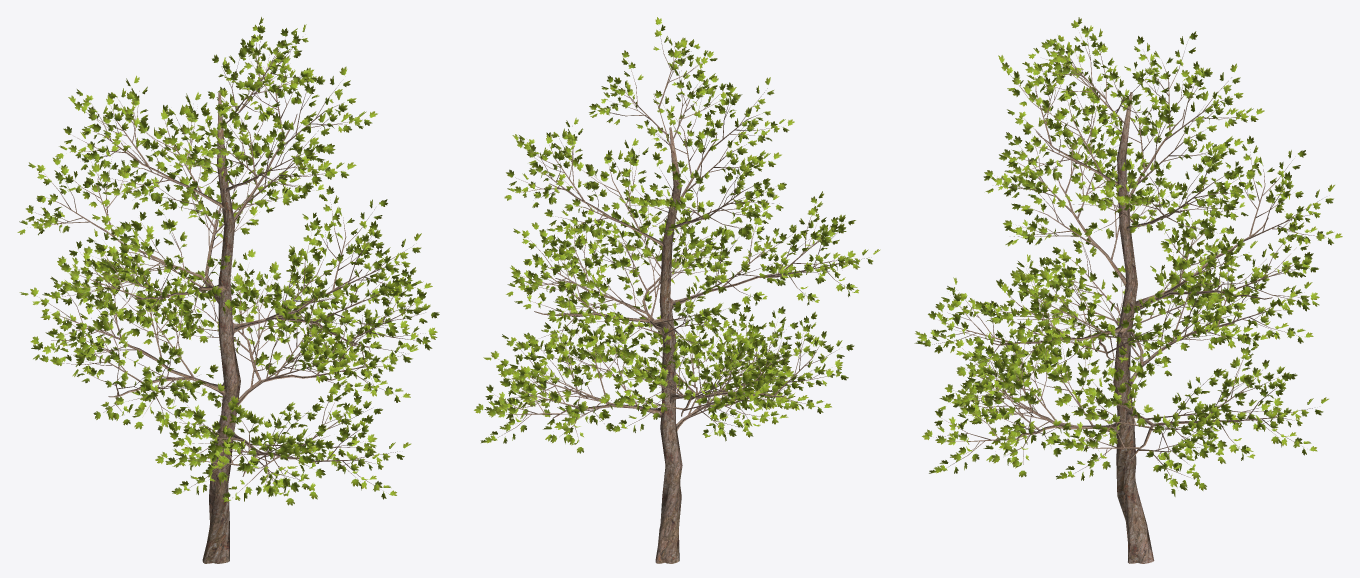
Rendered from SM_Tree1.fbx.
3 views of the same model, side by side, from view 1: azimuth 30°, elevation 25°; view 2: azimuth 150°, elevation 25°; view 3: azimuth 270°, elevation 25° (orthographic). The views are drawn at different scales.
Visible parts, largest first — view 1: SM_Tree1_LOD0; view 2: SM_Tree1_LOD0; view 3: SM_Tree1_LOD0.
Part boxes in pixels (x1,y1,x2,y2): SM_Tree1_LOD0: (17,17,439,563); SM_Tree1_LOD0: (474,17,880,563); SM_Tree1_LOD0: (914,17,1342,563).
Size of the model in its own units: 396 by 387 by 542.
2 materials, 2 textured.
